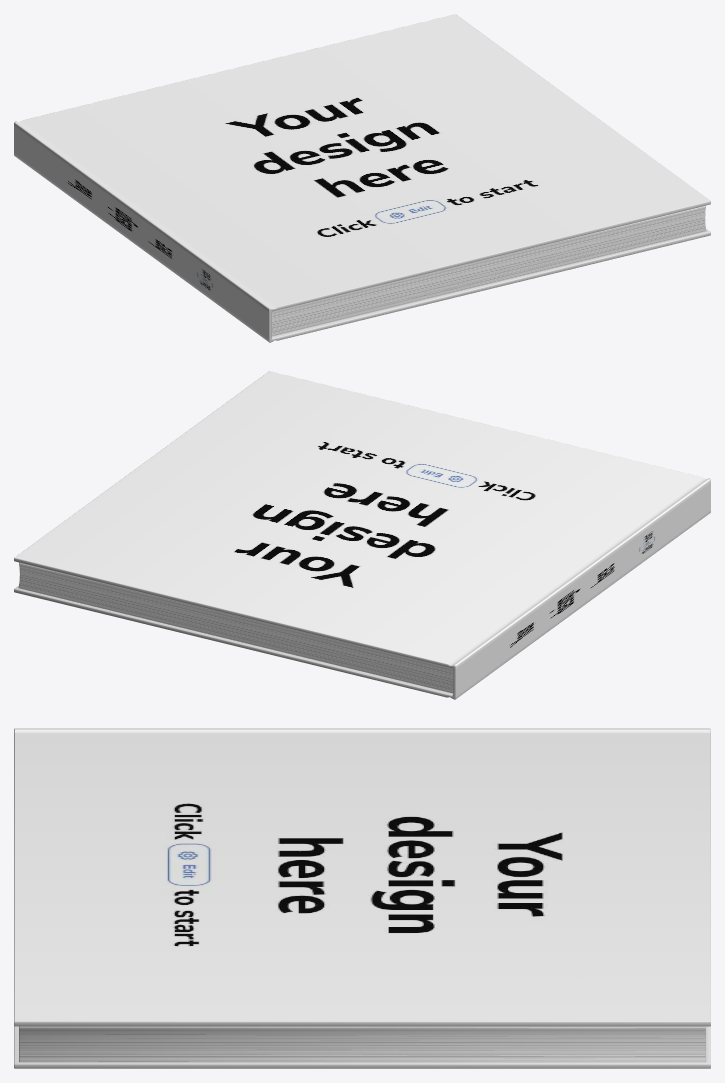
The model's file is hardcover.glb.
3 renders of one model, top to bottom at view 1: azimuth 30°, elevation 25°; view 2: azimuth 150°, elevation 25°; view 3: azimuth 270°, elevation 25°, orthographic. The views are drawn at different scales.
Parts seen in each view (by area): view 1: cover_front, pages, spine, inner_cover; view 2: cover_front, pages, spine, inner_cover; view 3: cover_front, pages, inner_cover.
Boxes of the visible parts, box(x1,y1,x2,y2) form: cover_front: box(14, 14, 709, 308); pages: box(272, 205, 706, 336); spine: box(14, 123, 268, 341); inner_cover: box(15, 14, 710, 342); cover_front: box(15, 371, 710, 665); pages: box(18, 562, 453, 693); spine: box(456, 480, 710, 698); inner_cover: box(14, 371, 709, 699); cover_front: box(15, 728, 709, 1021); pages: box(19, 1026, 705, 1062); inner_cover: box(14, 728, 710, 1068).
Bounding box in the file's own units: 0.463 × 0.0347 × 0.4636.
4 materials, 3 textured.
